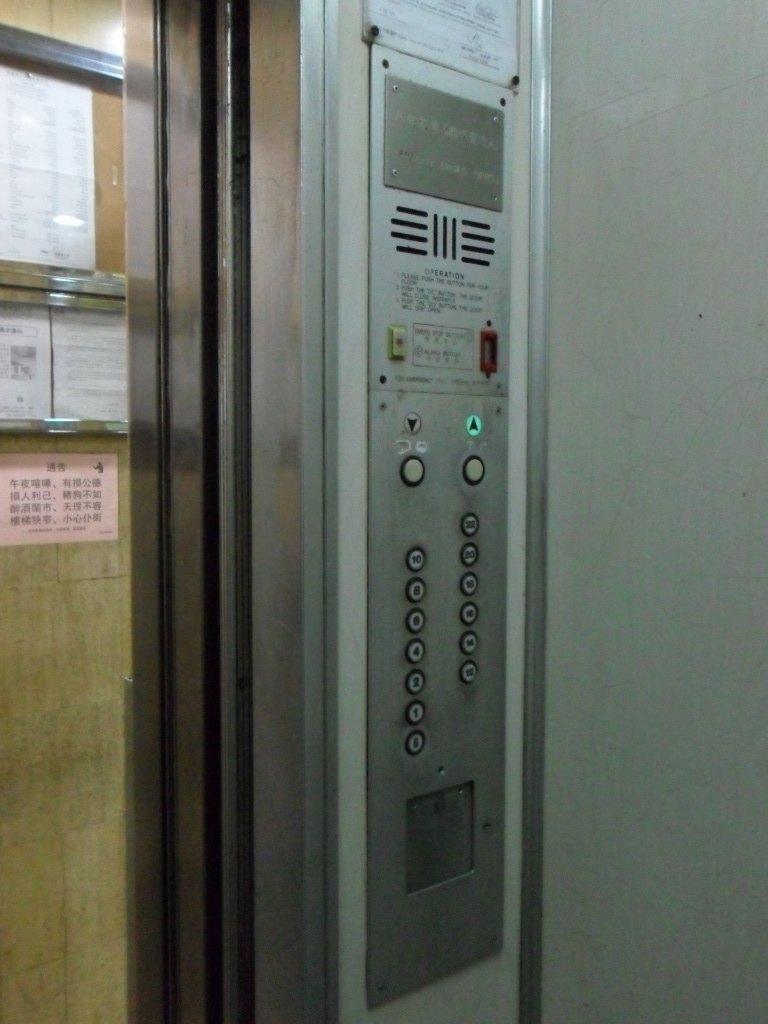1: (404, 699, 426, 725)
10: (405, 546, 426, 573)
14: (458, 630, 478, 655)
16: (459, 601, 478, 627)
18: (459, 571, 478, 596)
2: (405, 669, 425, 696)
20: (459, 541, 479, 567)
22: (460, 513, 478, 536)
4: (404, 637, 426, 665)
6: (404, 605, 424, 632)
8: (405, 576, 426, 603)
blur: (404, 730, 425, 755), (459, 657, 478, 683)
down: (405, 412, 422, 435)
empty: (398, 456, 425, 488), (461, 455, 485, 486)
up: (465, 414, 482, 437)
